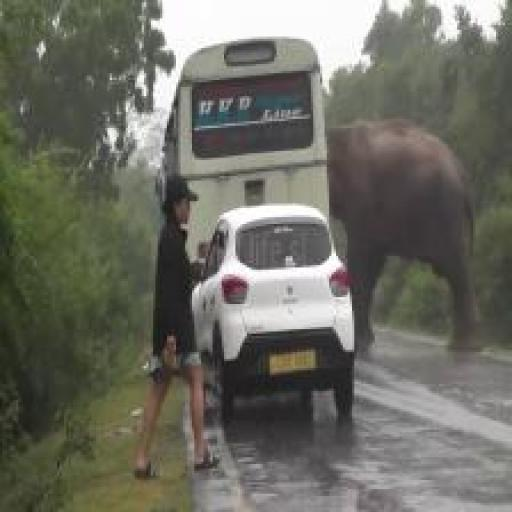Elephant: (320, 110, 502, 358)
